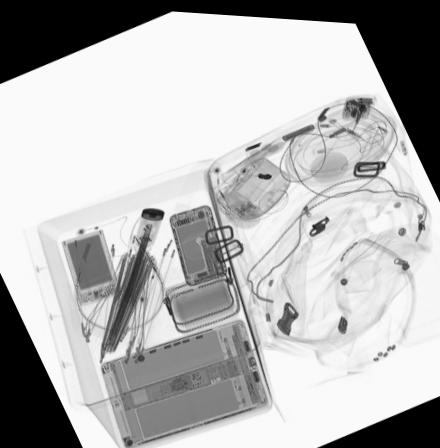Powerbank: (64, 230, 119, 301)
